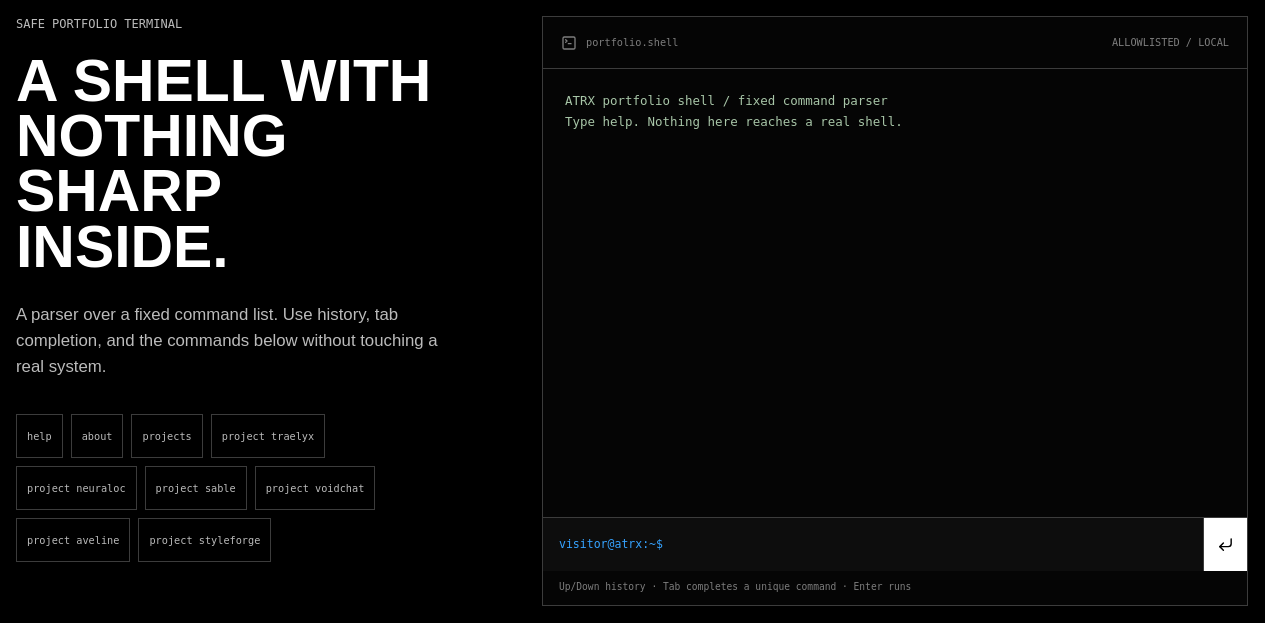
Test: PortfolioTerminal › supports tab completion
The image size is (1265, 623).
Type "project neur" into the field named "Portfolio terminal command" at x=933, y=544, box top-left (663, 518), bottom-right (1203, 571)
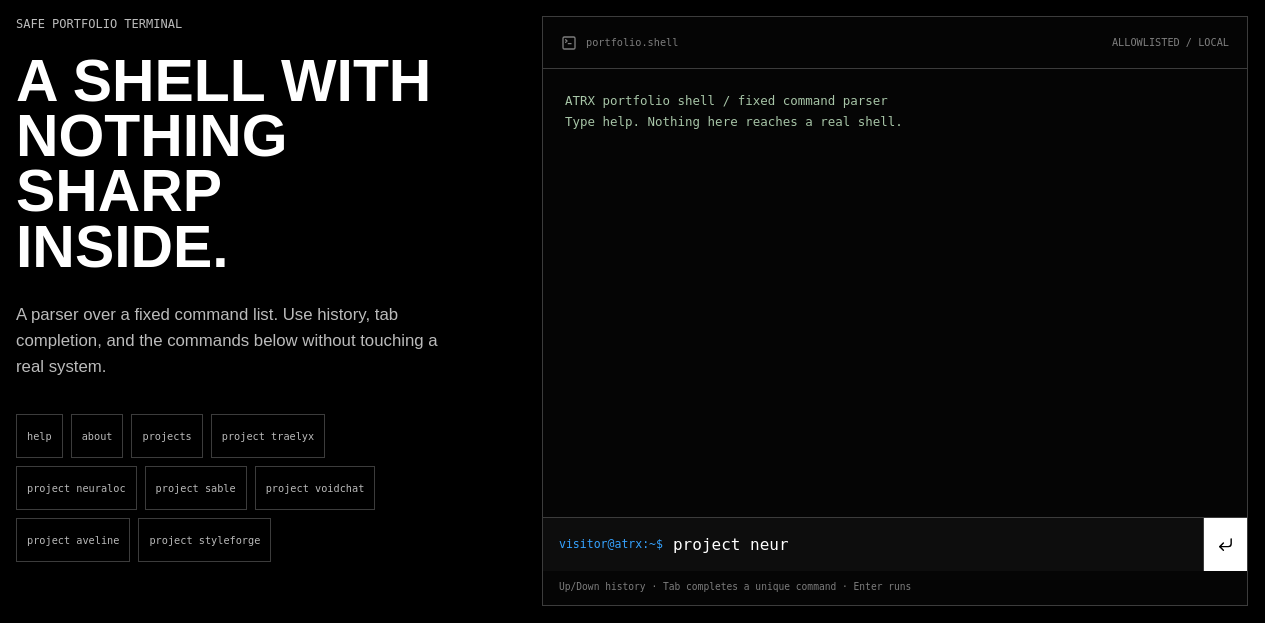
Press Tab in the field named "Portfolio terminal command", box top-left (663, 518), bottom-right (1203, 571)
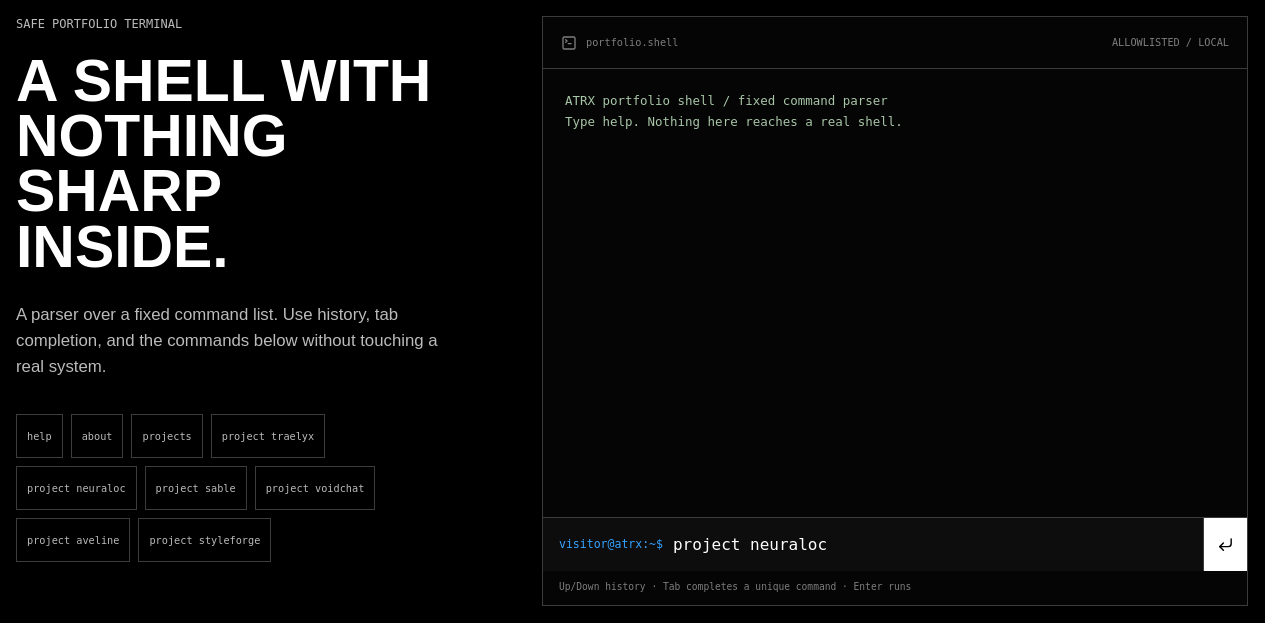
Expected: the field named "Portfolio terminal command" holds "project neuraloc", top-left (663, 518), bottom-right (1203, 571)
